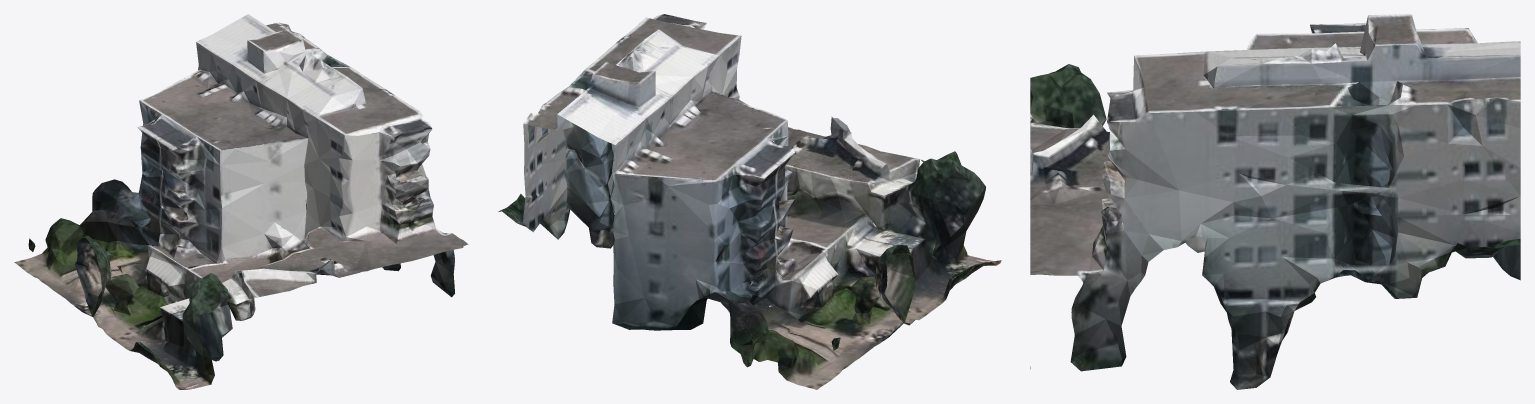
The model's file is helsinki-7-7.glb.
3 renders of one model, left to right at view 1: azimuth 30°, elevation 25°; view 2: azimuth 150°, elevation 25°; view 3: azimuth 270°, elevation 25°, orthographic. The views are drawn at different scales.
Bounding box in the file's own units: 31.5 × 21.94 × 31.5.
Materials: 1 (1 with a texture image).
